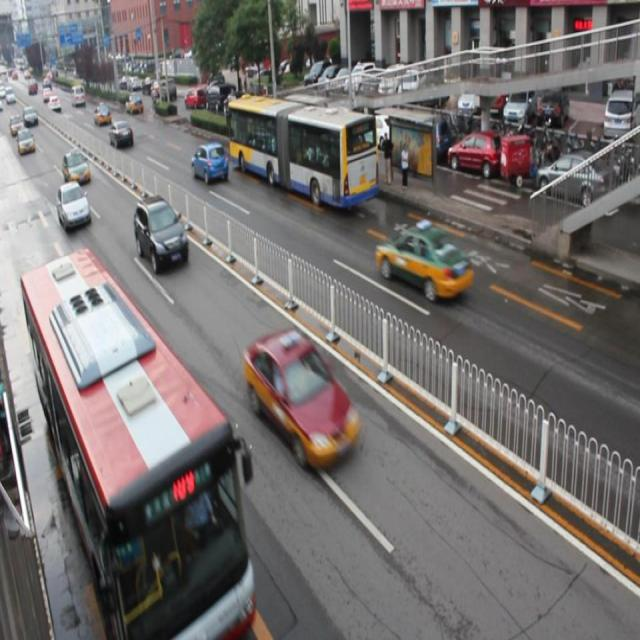car: (244, 327, 358, 465), (375, 222, 473, 302), (135, 198, 189, 269), (190, 142, 228, 184), (58, 181, 90, 228), (62, 148, 90, 183), (110, 120, 133, 148)
van: (21, 251, 258, 640), (226, 90, 378, 212)
